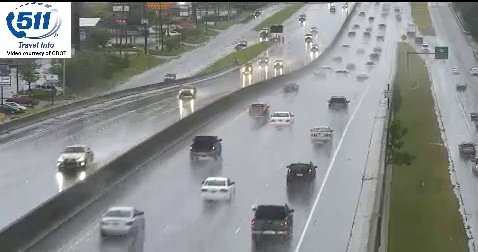car: (251, 203, 294, 242), (100, 206, 145, 236), (202, 176, 234, 201), (286, 162, 317, 185), (189, 136, 221, 158), (309, 126, 332, 143), (271, 111, 293, 128)
